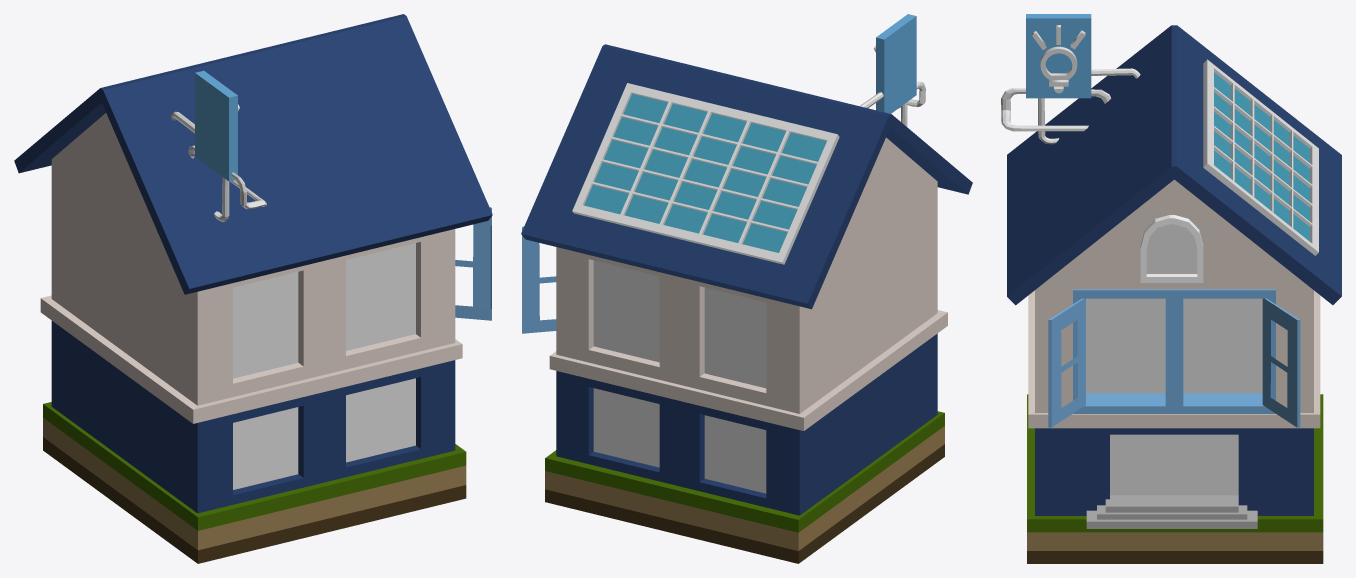
Rendered from House2Prefab.fbx.
3 views of the same model, side by side, from view 1: azimuth 30°, elevation 25°; view 2: azimuth 150°, elevation 25°; view 3: azimuth 270°, elevation 25° (orthographic). The views are drawn at different scales.
Parts seen in each view (by area): view 1: Plane.101, Plane.106, save house ground, Cube.147; view 2: Plane.101, Plane.106, save house, save house ground, Cube.147; view 3: Plane.101, Plane.106, save house ground, save house, Cube.158, Cube.147, Cube.148, Curve, Cylinder.031.
Boxes of the visible parts, x1,y1,x2,y2 form: Plane.101: (40, 113, 491, 513); Plane.106: (14, 14, 492, 294); save house ground: (43, 402, 466, 563); Cube.147: (195, 70, 237, 181); Plane.101: (522, 137, 947, 515); Plane.106: (521, 44, 972, 309); save house: (572, 83, 839, 264); save house ground: (545, 411, 944, 563); Cube.147: (876, 14, 916, 113); Plane.101: (1028, 179, 1320, 515); Plane.106: (1007, 25, 1341, 305); save house ground: (1027, 394, 1323, 563); save house: (1203, 59, 1318, 255); Cube.158: (1086, 495, 1257, 528); Cube.147: (1026, 14, 1091, 98); Cube.148: (1140, 215, 1203, 282); Curve: (1032, 25, 1085, 93); Cylinder.031: (1001, 88, 1088, 131).
Size of the model in its own units: 252 by 341 by 240.
